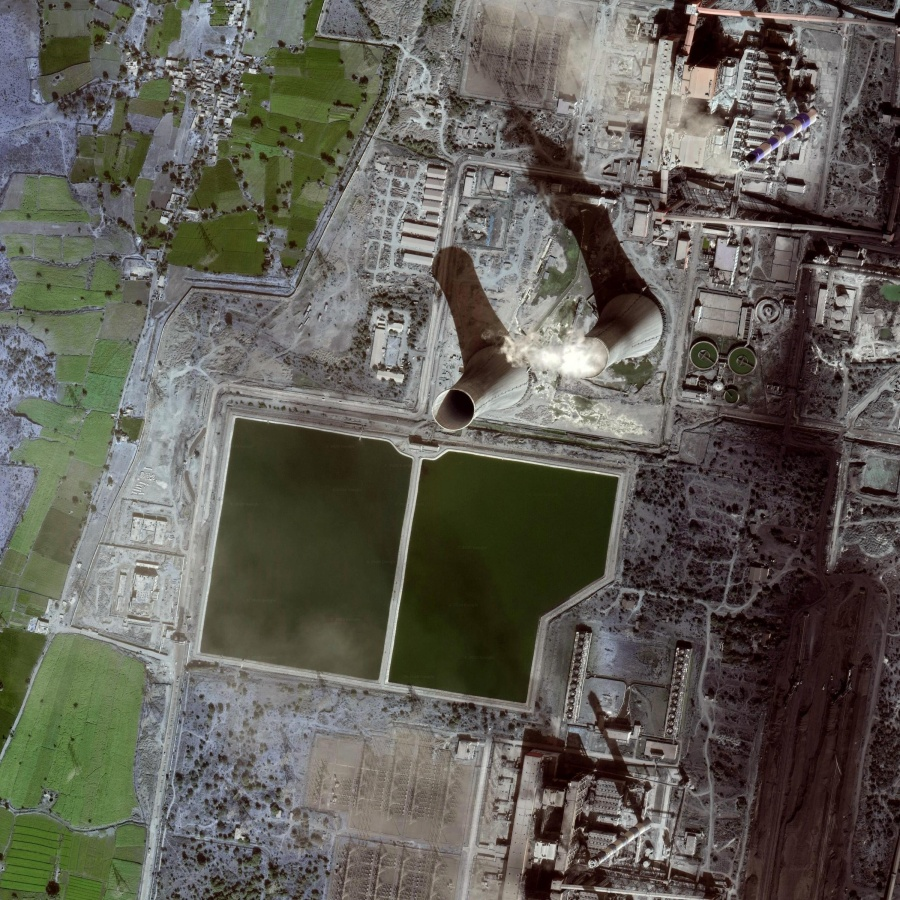PowerPlant: (187, 413, 626, 721)
